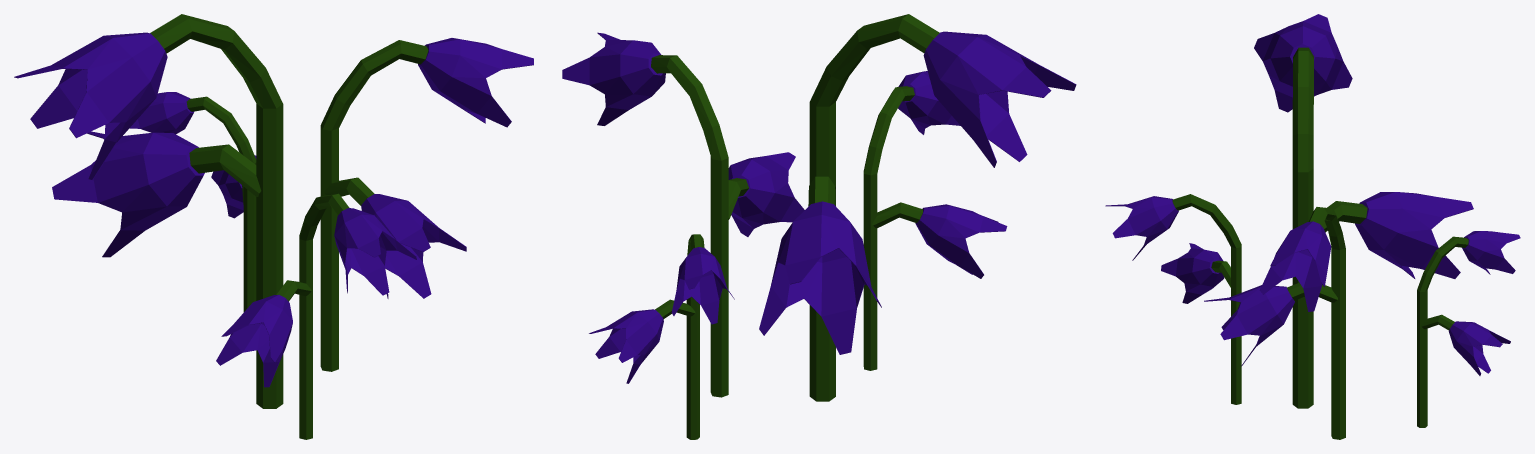
File: Bell_flower.glb
3 renders of one model, left to right at view 1: azimuth 30°, elevation 25°; view 2: azimuth 150°, elevation 25°; view 3: azimuth 270°, elevation 25°, orthographic. The views are drawn at different scales.
Visible parts, largest first — view 1: Asset3DLoader.sceneRoot; view 2: Asset3DLoader.sceneRoot; view 3: Asset3DLoader.sceneRoot.
Boxes of the visible parts, x1=… form: Asset3DLoader.sceneRoot: x1=14, y1=14, x2=533, y2=439; Asset3DLoader.sceneRoot: x1=562, y1=14, x2=1076, y2=439; Asset3DLoader.sceneRoot: x1=1105, y1=14, x2=1520, y2=439.
Size of the model in its own units: 1.4 by 1.1 by 1.29.
